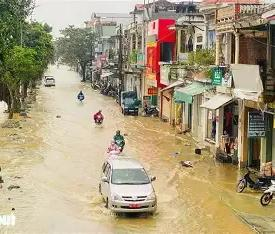ROAD_FLOODING: (3, 85, 272, 234)
